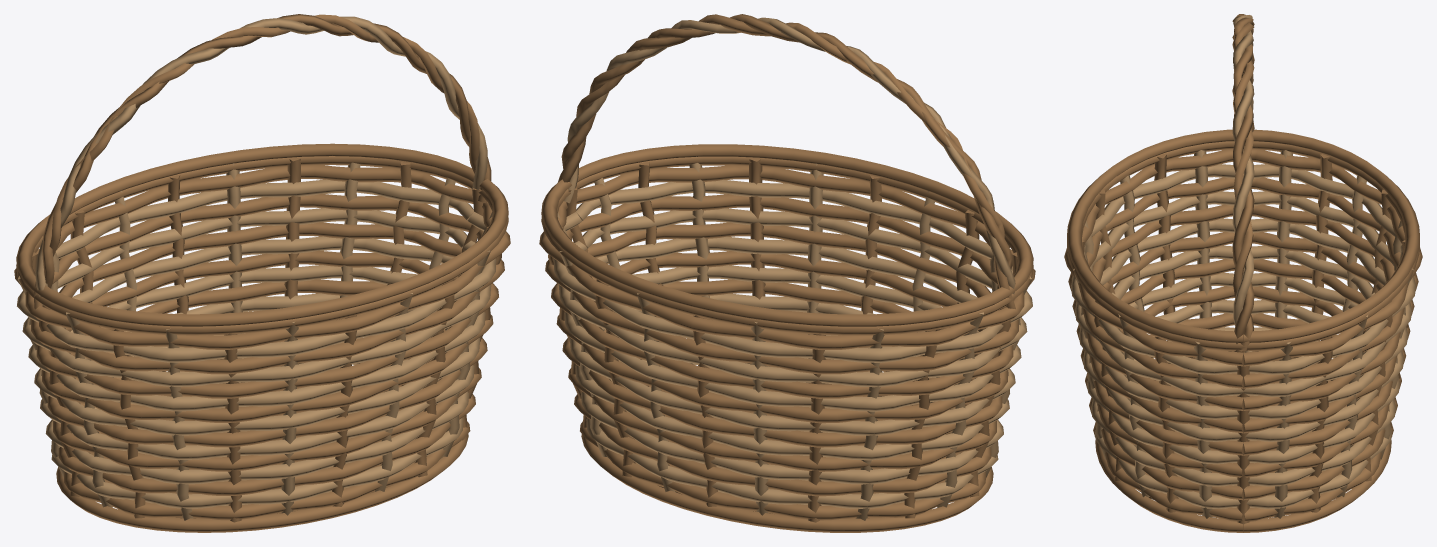
File: neighbour_basket.glb
The picture shows the model from 3 angles, left to right: view 1: azimuth 30°, elevation 25°; view 2: azimuth 150°, elevation 25°; view 3: azimuth 270°, elevation 25°; orthographic projection. The views are drawn at different scales.
Visible parts, largest first — view 1: neighbour_basket; view 2: neighbour_basket; view 3: neighbour_basket.
Part boxes in pixels (left/top/right/bottom): neighbour_basket: left=14, top=14, right=510, bottom=532; neighbour_basket: left=539, top=14, right=1035, bottom=532; neighbour_basket: left=1064, top=14, right=1422, bottom=532.
Bounding box in the file's own units: 0.341 × 0.3097 × 0.2439.
